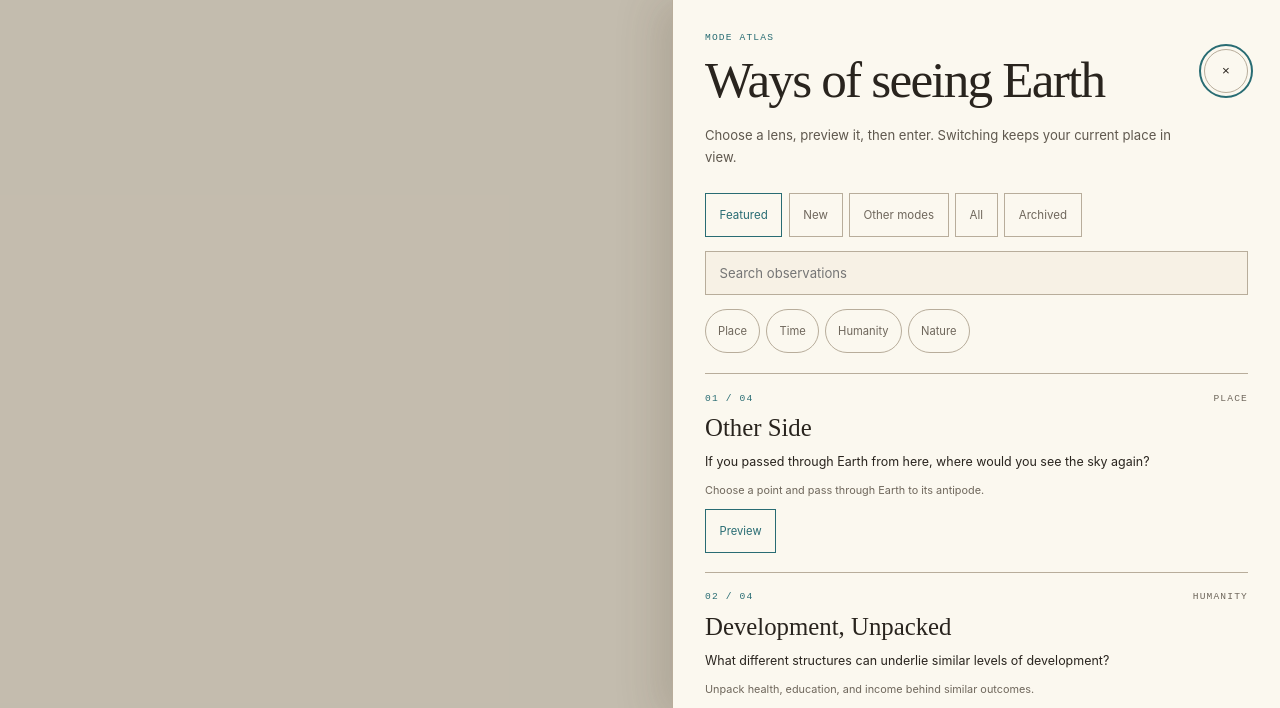
ModeAtlas › shows an empty archived view
Click the tab "Archived".
click(1043, 214)  # box x1=1004 y1=192 x2=1082 y2=236
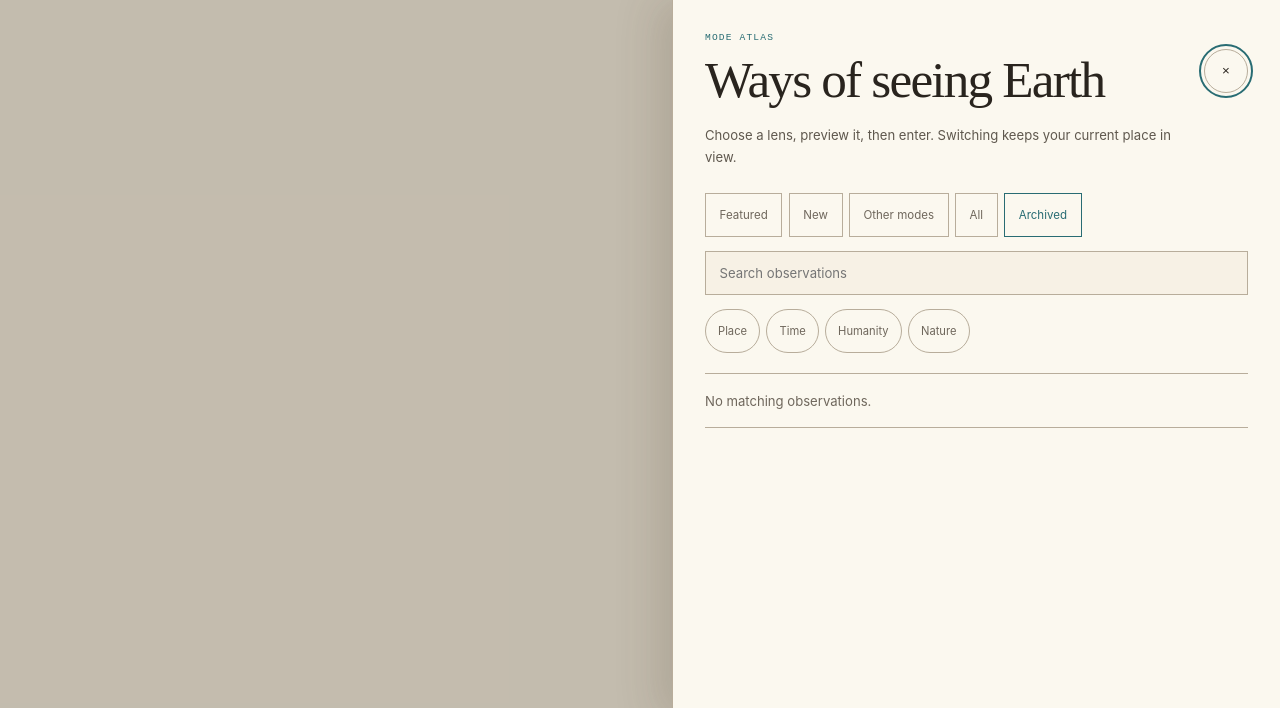
expect the list item "No matching observations." is shown: met, box x1=705 y1=374 x2=1248 y2=428
